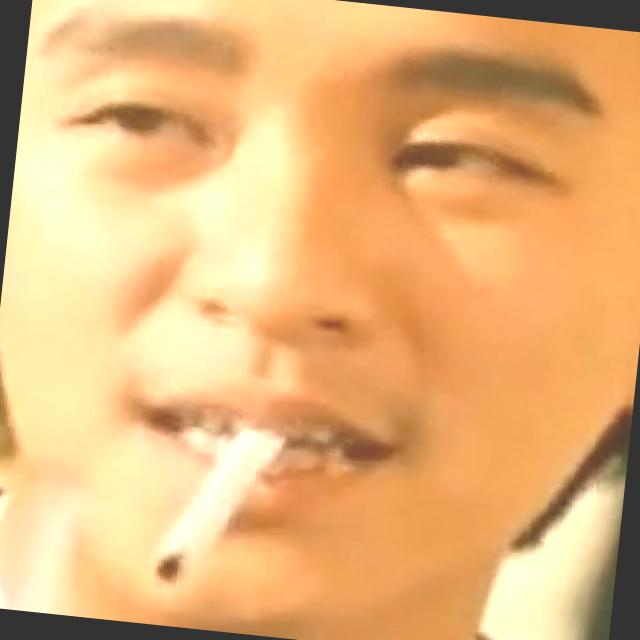smoke: (148, 422, 294, 594)
